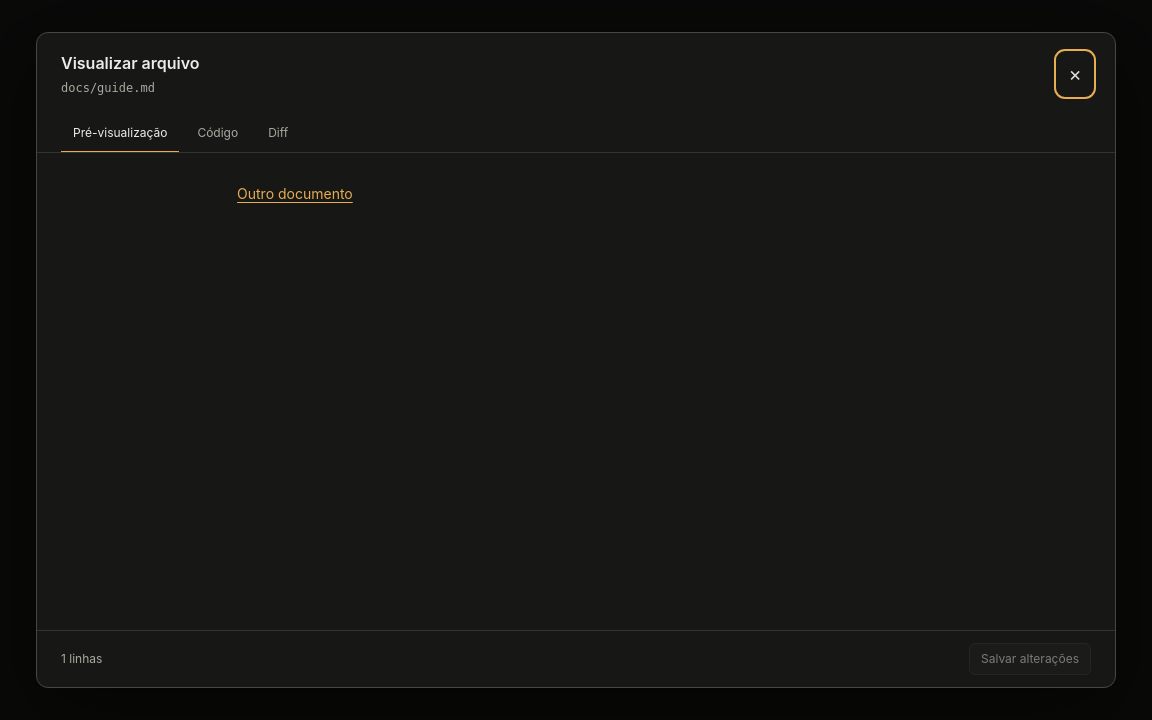
Scenario: opens relative Markdown file links in the viewer and reports missing files in place
Click the link "Outro documento" at (295, 194), box [237,185,353,202]
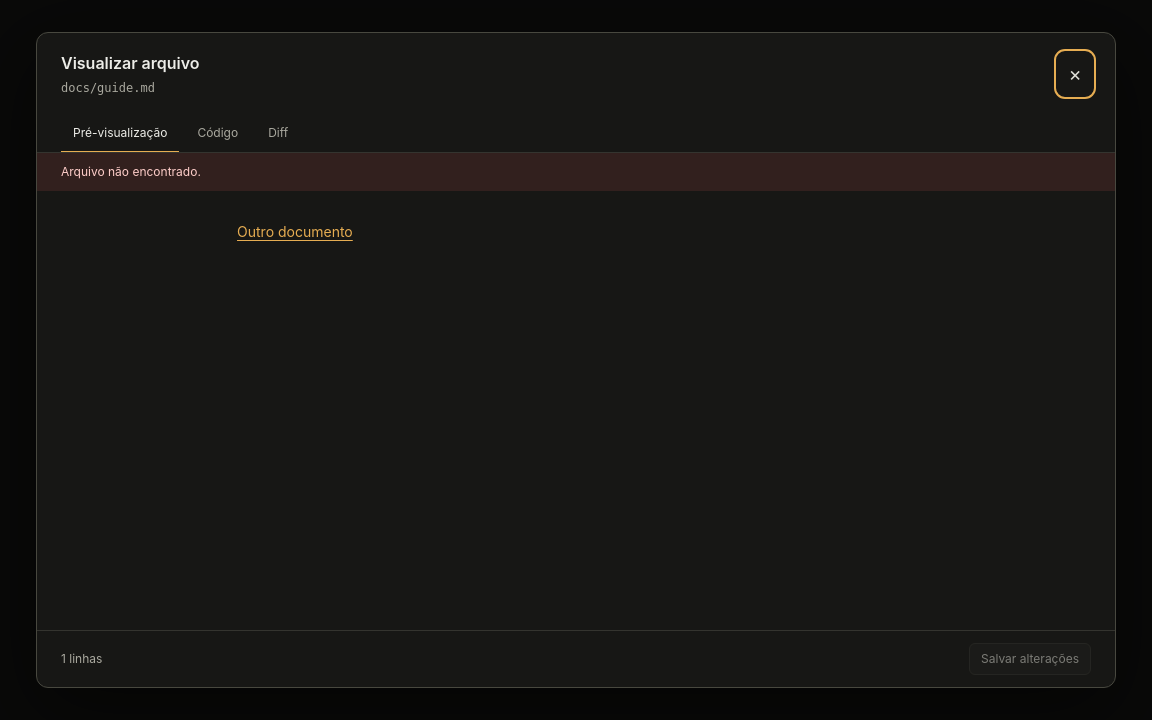
Now the message "Arquivo não encontrado." is shown, box [37,153,1115,191]
